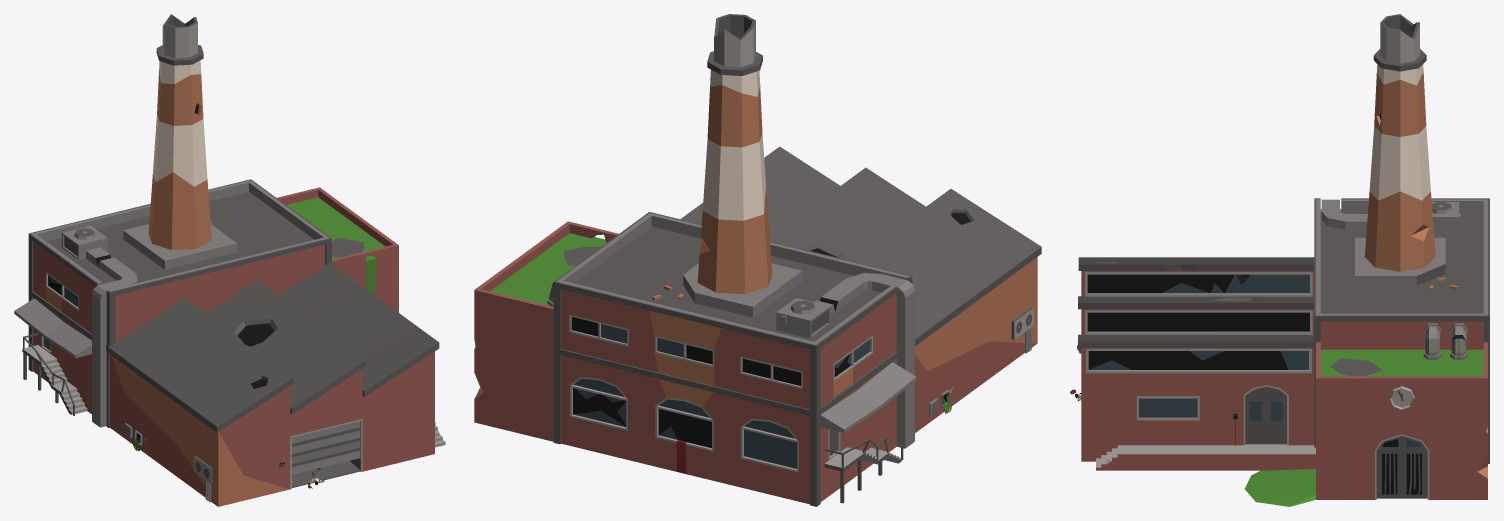
The model's file is apocalypse_industry-factory-old-apocalypse.fbx.
3 views of the same model, side by side, from view 1: azimuth 30°, elevation 25°; view 2: azimuth 150°, elevation 25°; view 3: azimuth 270°, elevation 25° (orthographic). The views are drawn at different scales.
Visible parts, largest first — view 1: industry_factory_old_apocalypse_industry_factory_old_base_ap; view 2: industry_factory_old_apocalypse_industry_factory_old_base_ap; view 3: industry_factory_old_apocalypse_industry_factory_old_base_ap.
Part boxes in pixels (<box>): industry_factory_old_apocalypse_industry_factory_old_base_ap: <box>14,14,445,506</box>; industry_factory_old_apocalypse_industry_factory_old_base_ap: <box>474,14,1041,506</box>; industry_factory_old_apocalypse_industry_factory_old_base_ap: <box>1077,14,1489,506</box>.
Bounding box in the file's own units: 192 × 200 × 199.
